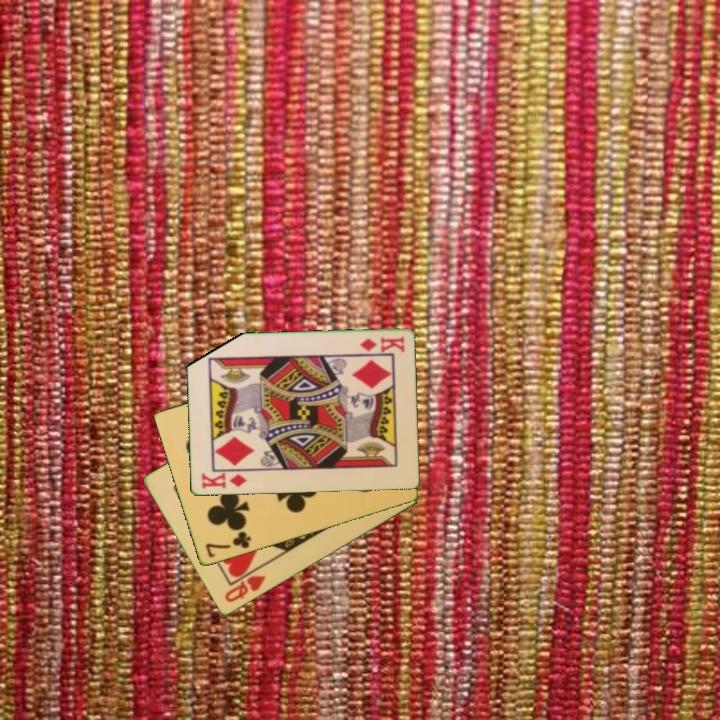7c: (202, 528, 254, 561)
Kd: (198, 469, 249, 492), (356, 333, 407, 355)
Qh: (221, 572, 268, 606)
